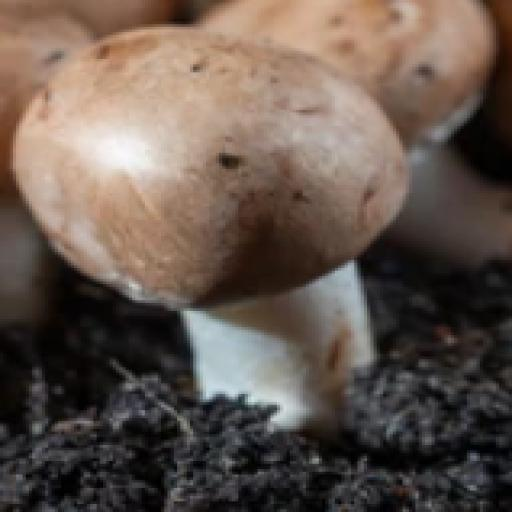mushroom: (9, 21, 418, 417)
